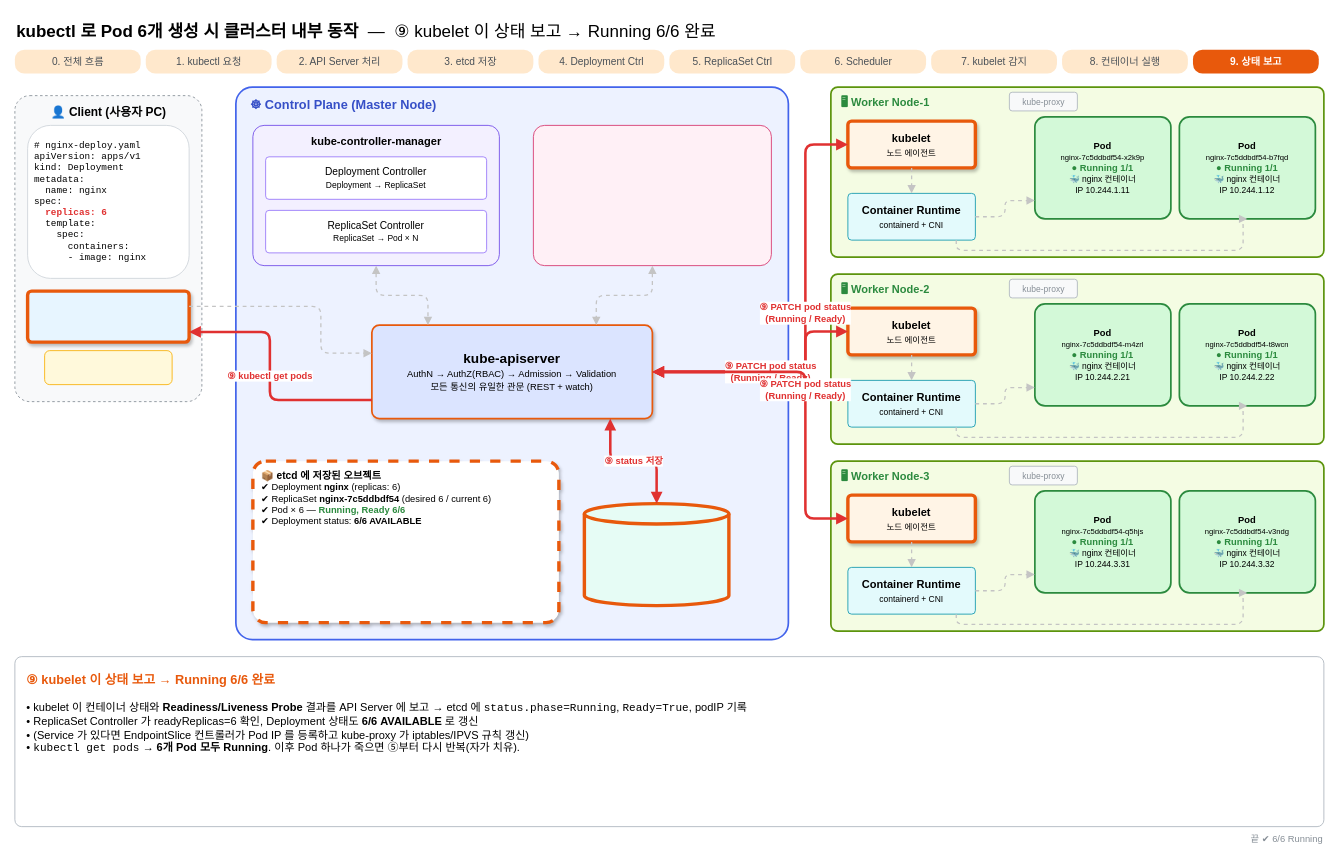
Image size: 1340x859. Some labels were removed from this diagram. The centre of each missing label's shape, as x and y in pixels:
etcd 클러스터 상태 저장소: [656,554]
kube-scheduler Filtering → Scoring → Binding (어느 노드에 둘지 결정): [652,195]
kubectl apply -f nginx-deploy.yaml: [109,317]
~/.kube/config (서버 주소·인증서): [108,367]
